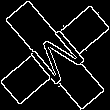M_SE: (21, 21, 89, 89)
